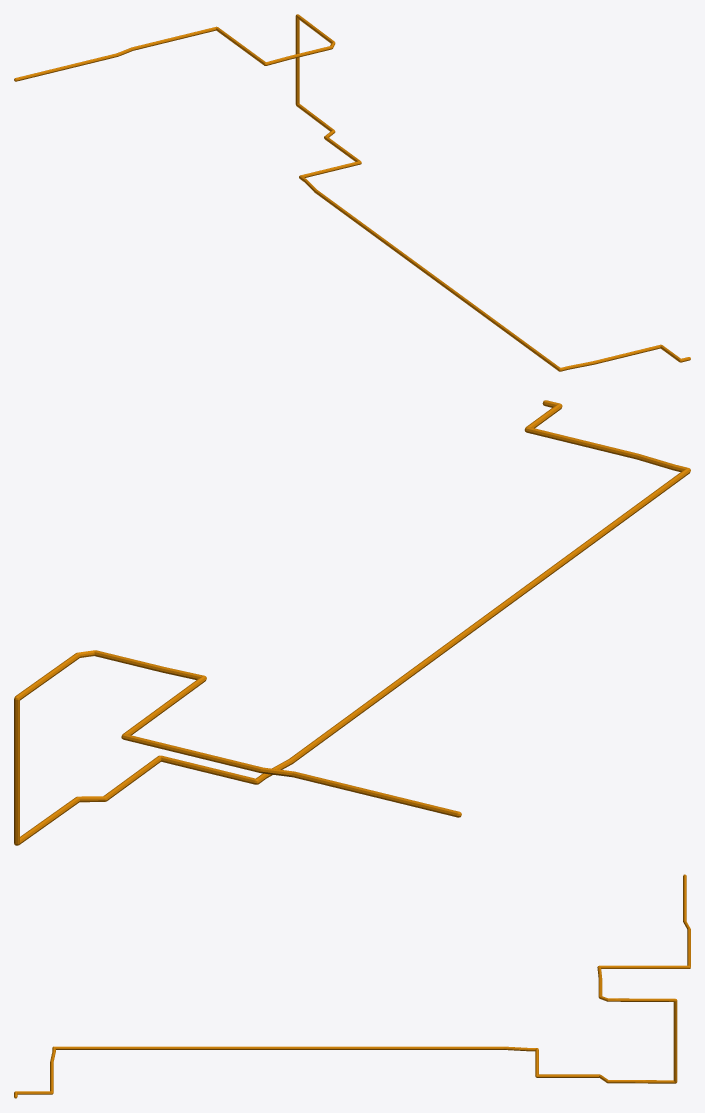
The picture shows the model from 3 angles, top to bottom: view 1: azimuth 30°, elevation 25°; view 2: azimuth 150°, elevation 25°; view 3: azimuth 270°, elevation 25°; orthographic projection. The views are drawn at different scales.
Bounding box in the file's own units: 1852 × 520 × 3763.
